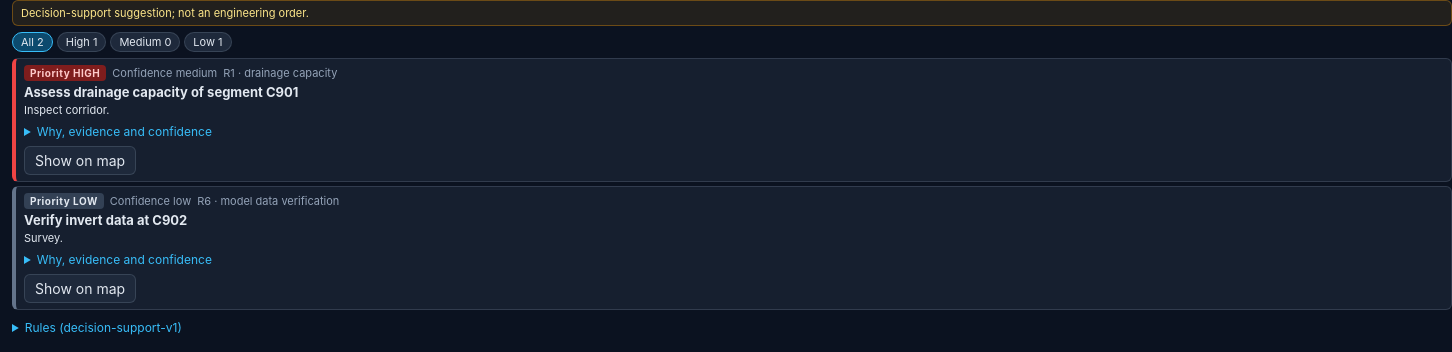
Scenario: RecommendationsPanel › renders traceable recommendations and filters by priority
Expected: the text "Decision-support suggestion; not an engineering order." is shown, [12, 0, 1451, 26]
Expected: the text "Assess drainage capacity of segment C901" is shown, [24, 84, 298, 100]
Click the button "Low 1": (208, 42) [184, 32, 232, 52]
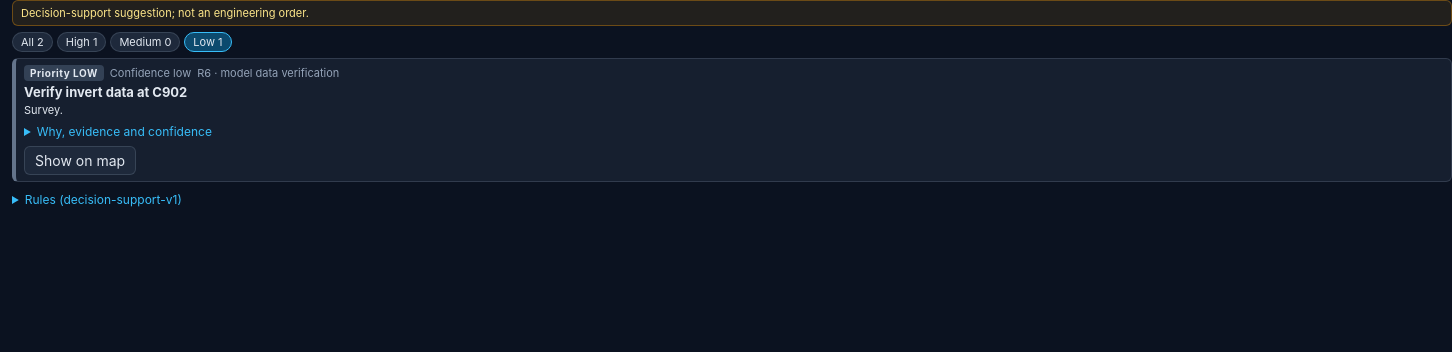
Expected: the text "Verify invert data at C902" is shown, [24, 84, 187, 100]
Now the text "Assess drainage capacity of segment C901" is gone
